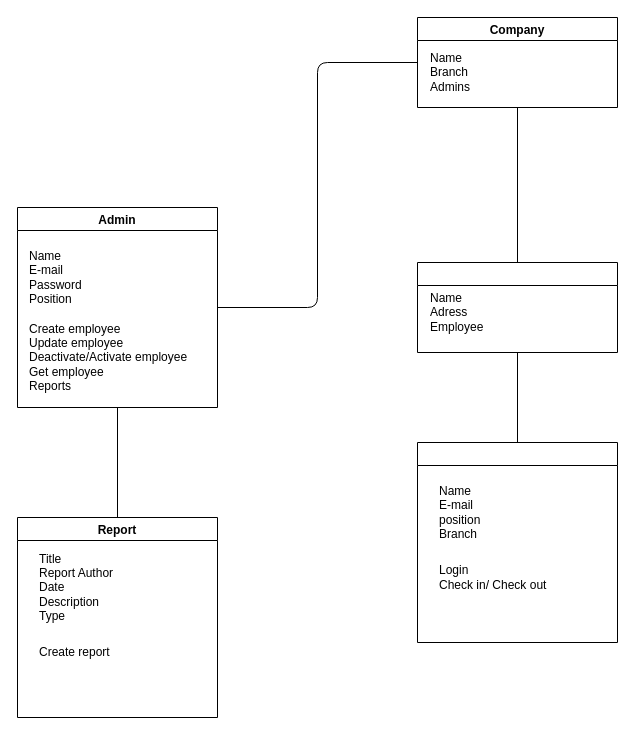
Image size: 635x735. Some labels were removed from this diagram. The shapes that lost their labels are listed below. From the top down, each one's box as (x1, y1, x2, y2) in pixels, then its label:
(416, 262, 618, 352): Branch
(416, 442, 618, 642): Employee
